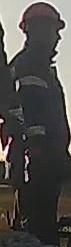gloves: (0, 104, 31, 188), (27, 128, 47, 173)
helmet: (17, 2, 67, 35)
vest: (5, 46, 70, 151)
